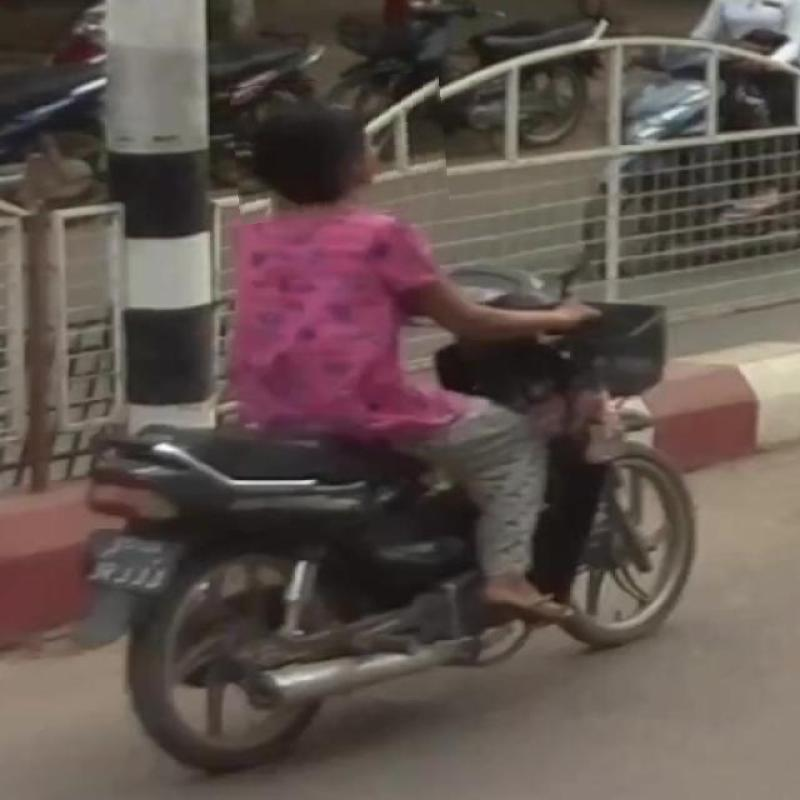nohelmet: (232, 75, 448, 220)
